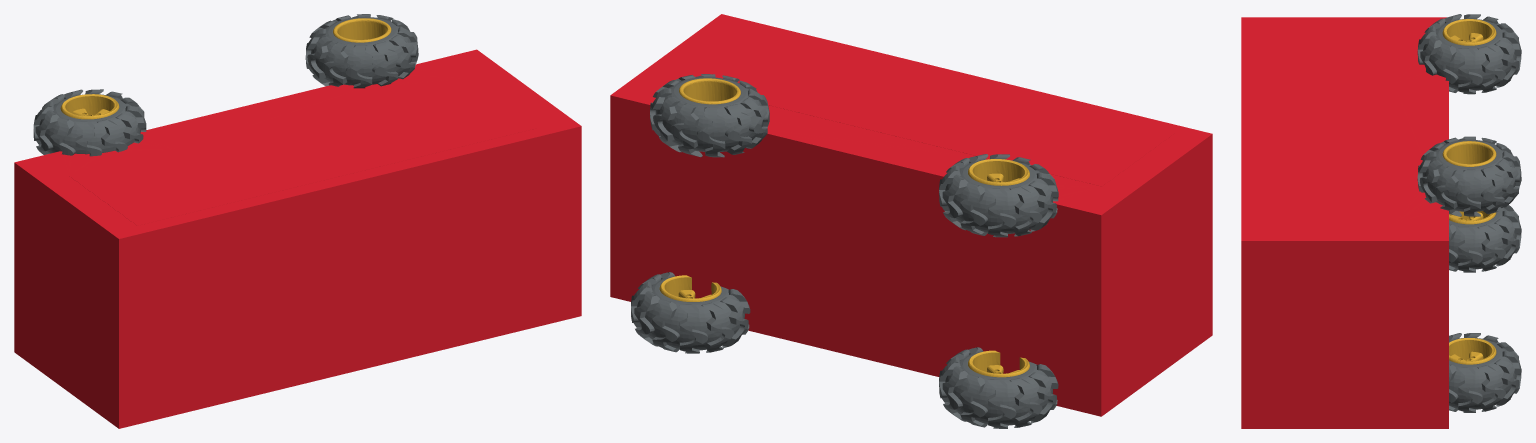
File: tinker.obj
3 renders of one model, left to right at view 1: azimuth 30°, elevation 25°; view 2: azimuth 150°, elevation 25°; view 3: azimuth 270°, elevation 25°, orthographic. The views are drawn at different scales.
Visible parts, largest first — view 1: group_0_15277357, group_0_6383466, group_0_14789940; view 2: group_0_15277357, group_0_6383466, group_0_14789940; view 3: group_0_15277357, group_0_6383466, group_0_14789940.
Boxes of the visible parts, left/top/right/bottom form: group_0_15277357: left=14, top=49, right=581, bottom=428; group_0_6383466: left=33, top=14, right=418, bottom=156; group_0_14789940: left=60, top=18, right=391, bottom=119; group_0_15277357: left=610, top=14, right=1212, bottom=416; group_0_6383466: left=631, top=74, right=1058, bottom=428; group_0_14789940: left=659, top=78, right=1029, bottom=377; group_0_15277357: left=1241, top=17, right=1448, bottom=428; group_0_6383466: left=1417, top=14, right=1521, bottom=412; group_0_14789940: left=1442, top=19, right=1496, bottom=364.
Bounding box in the file's own units: 51 × 25 × 27.
